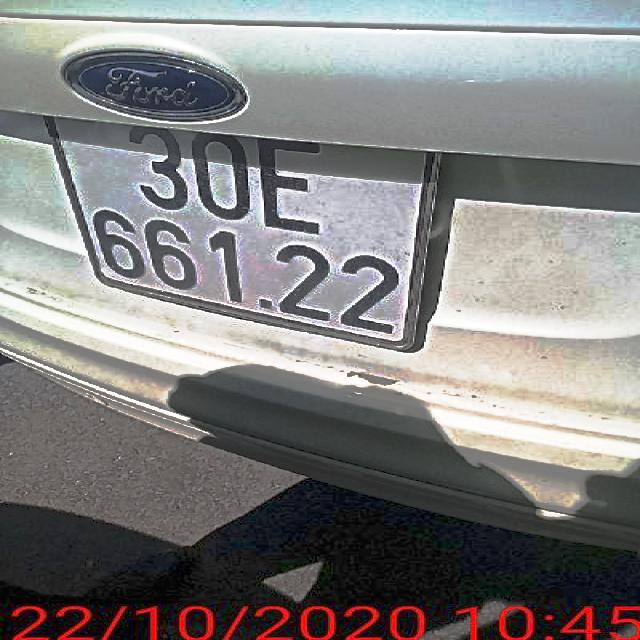license_plate: (44, 116, 441, 349)
